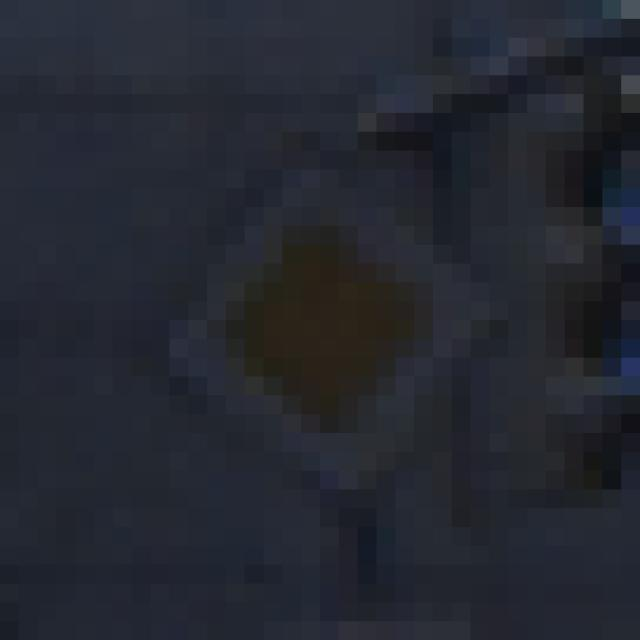Main Road: (114, 95, 547, 547)
